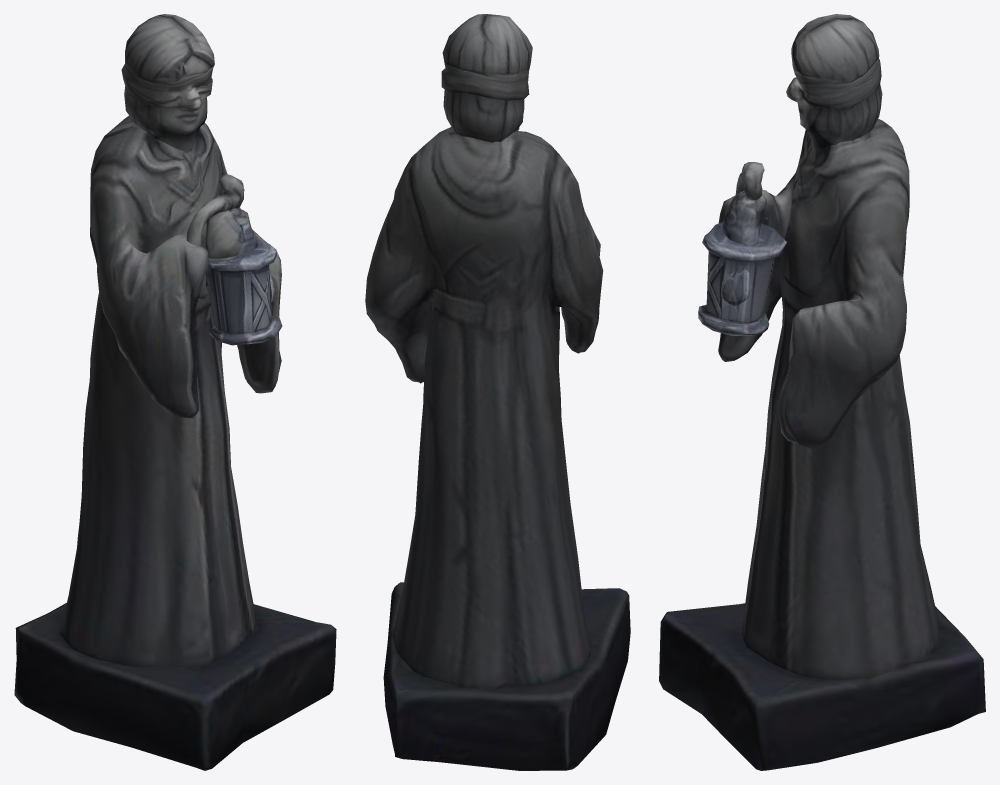
Rendered from el_estatua_cega.glb.
The picture shows the model from 3 angles, left to right: view 1: azimuth 30°, elevation 25°; view 2: azimuth 150°, elevation 25°; view 3: azimuth 270°, elevation 25°; orthographic projection. The views are drawn at different scales.
Visible parts, largest first — view 1: Mesh_0; view 2: Mesh_0; view 3: Mesh_0.
Boxes of the visible parts, x1,y1,x2,y2 form: Mesh_0: [14, 14, 336, 770]; Mesh_0: [365, 14, 630, 770]; Mesh_0: [659, 14, 985, 770].
Size of the model in its own units: 0.1973 by 0.5243 by 0.2231.
1 material, 1 textured.
